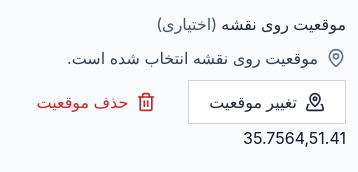
Test case: LocationField › a saved point: «تغییر موقعیت» and «حذف موقعیت», which clears both coordinates
Expected: the text "موقعیت روی نقشه انتخاب شده است." is shown, [67,48,346,68]
Expected: the button "تغییر موقعیت" is shown, [188,80,346,124]
Step 1. Click the button "حذف موقعیت" → (96, 102), box [16,80,176,124]
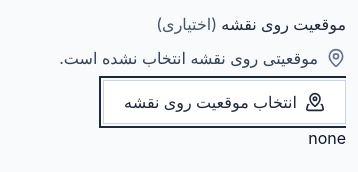
Expected: the text with test id "value" reads "none", [308,128,346,148]
